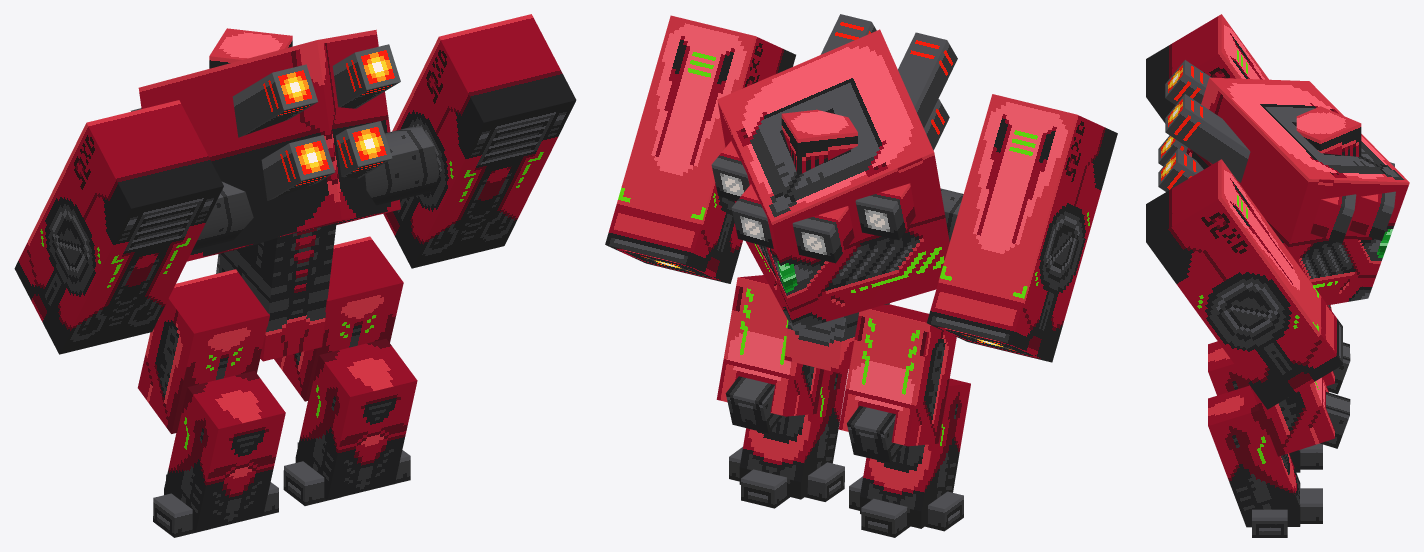
File: grunt.glb
3 renders of one model, left to right at view 1: azimuth 30°, elevation 25°; view 2: azimuth 150°, elevation 25°; view 3: azimuth 270°, elevation 25°, orthographic. The views are drawn at different scales.
Visible parts, largest first — view 1: OmegaXD_OmegaXD_0; view 2: OmegaXD_OmegaXD_0; view 3: OmegaXD_OmegaXD_0.
Boxes of the visible parts, left/top/right/bottom form: OmegaXD_OmegaXD_0: left=14, top=14, right=576, bottom=537; OmegaXD_OmegaXD_0: left=605, top=14, right=1117, bottom=537; OmegaXD_OmegaXD_0: left=1146, top=14, right=1409, bottom=537.
Size of the model in its own units: 7.54 by 7.89 by 4.58.
1 material, 1 textured.
